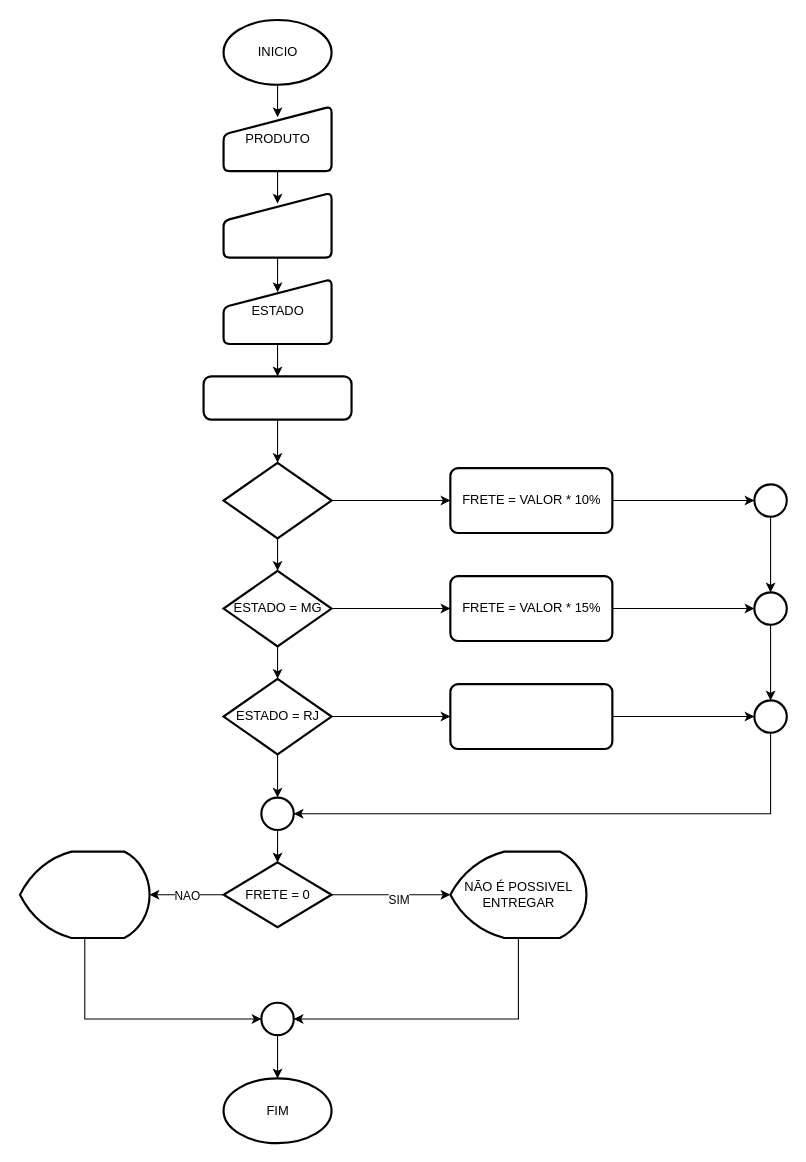
This 806x1162 diagram has some shape labels left out. Here are the shapes that lost their labels. From the top down, the centre of each, then its label:
At (277,224): "VALOR".
At (277,397): "MOVER 0 FRETE".
At (277,500): "ESTADO = SP".
At (531,716): "FRETE = VALOR * 20%".
At (84,894): "PRODUTO VALOR ESTADO FRETE".
